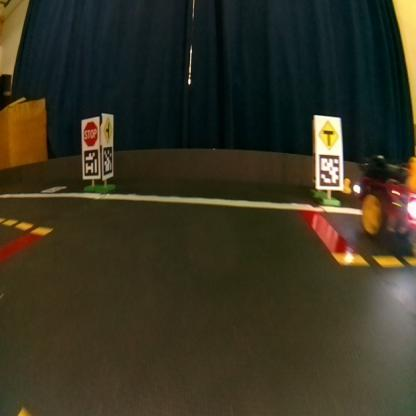duckiebot: (353, 139, 415, 248)
